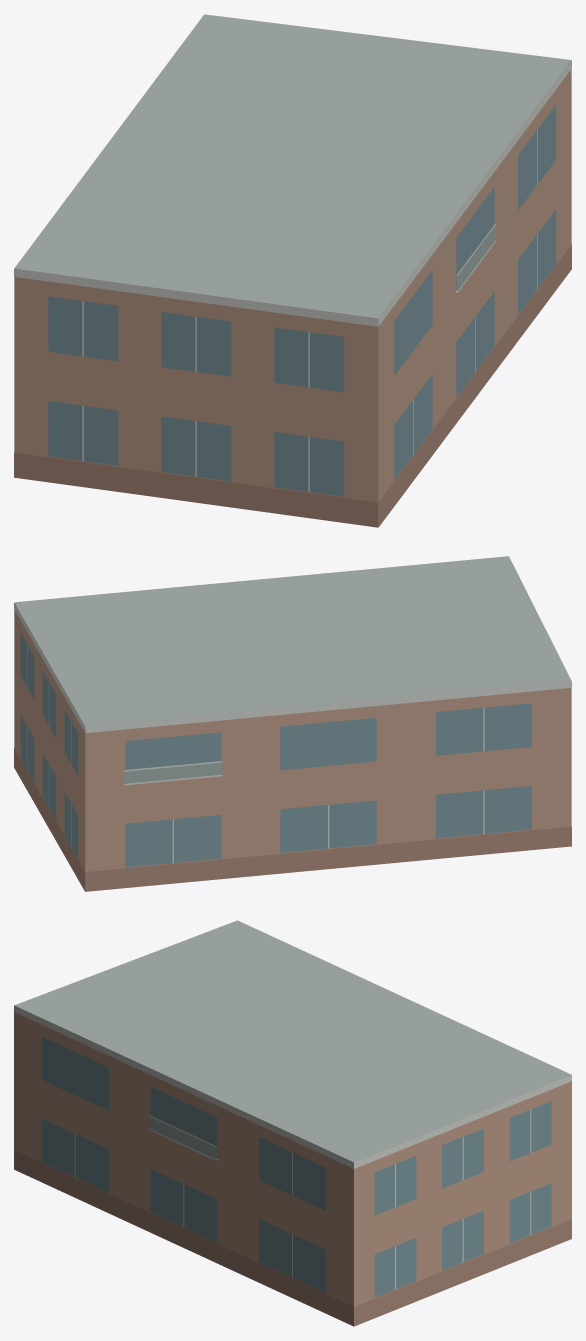
File: survey-upis-32689606.glb
The picture shows the model from 3 angles, top to bottom: view 1: azimuth 30°, elevation 25°; view 2: azimuth 150°, elevation 25°; view 3: azimuth 270°, elevation 25°; orthographic projection. The views are drawn at different scales.
Visible parts, largest first — view 1: survey-upis-32689606.tmp; view 2: survey-upis-32689606.tmp; view 3: survey-upis-32689606.tmp.
Part boxes in pixels (x1=…): survey-upis-32689606.tmp: x1=14, y1=14, x2=571, y2=527; survey-upis-32689606.tmp: x1=14, y1=556, x2=571, y2=891; survey-upis-32689606.tmp: x1=14, y1=920, x2=571, y2=1326.
Bounding box in the file's own units: 19.3 × 6.1 × 18.79.
